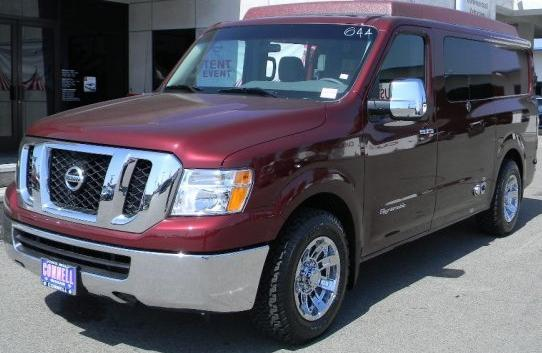front_view: (14, 135, 291, 320)
headlight: (155, 153, 277, 223)
side_glass: (364, 24, 500, 110)
